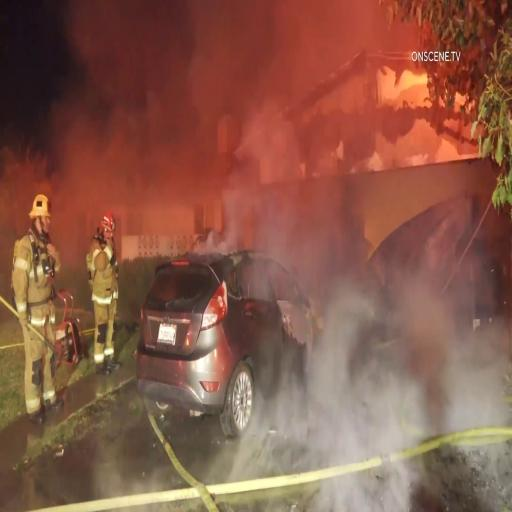smoke: (5, 2, 289, 130), (319, 247, 420, 444)
